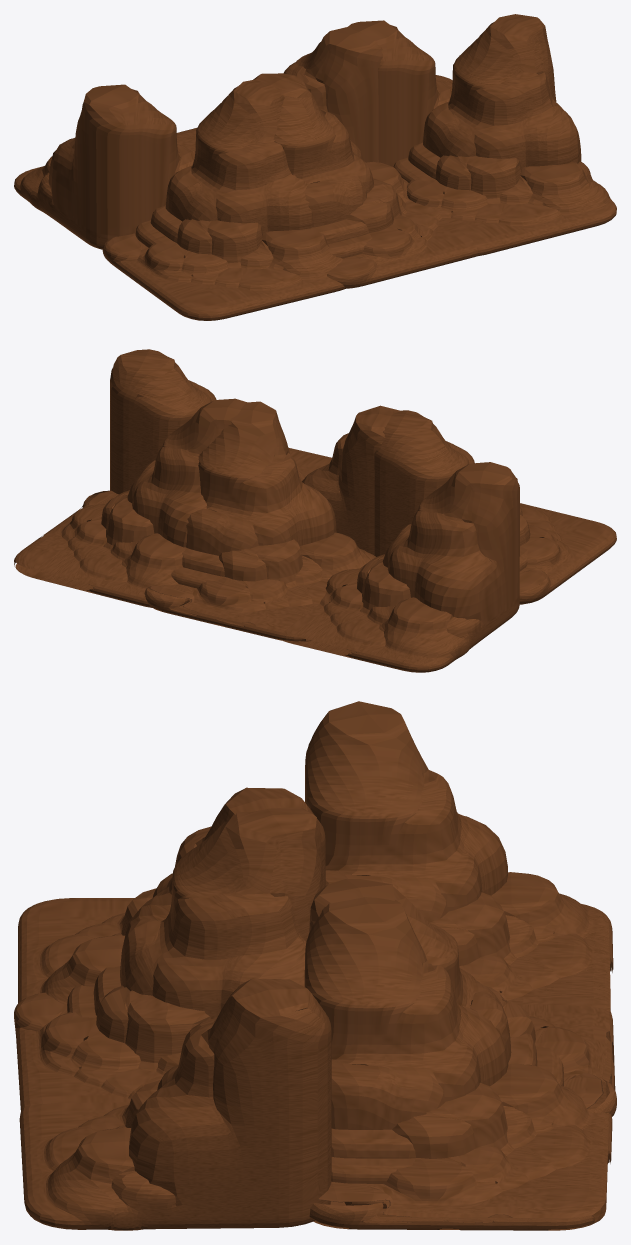
File: RockyBg.fbx
3 renders of one model, top to bottom at view 1: azimuth 30°, elevation 25°; view 2: azimuth 150°, elevation 25°; view 3: azimuth 270°, elevation 25°, orthographic. The views are drawn at different scales.
Visible parts, largest first — view 1: Cube.002, Cube.005; view 2: Cube.005, Cube.002; view 3: Cube.005, Cube.002.
Boxes of the visible parts, x1=… form: Cube.002: x1=102, y1=14, x2=616, y2=320; Cube.005: x1=14, y1=20, x2=452, y2=249; Cube.005: x1=14, y1=398, x2=519, y2=672; Cube.002: x1=110, y1=349, x2=616, y2=604; Cube.005: x1=304, y1=701, x2=616, y2=1230; Cube.002: x1=14, y1=787, x2=331, y2=1230.
Size of the model in its own units: 7792 by 2528 by 6112.
